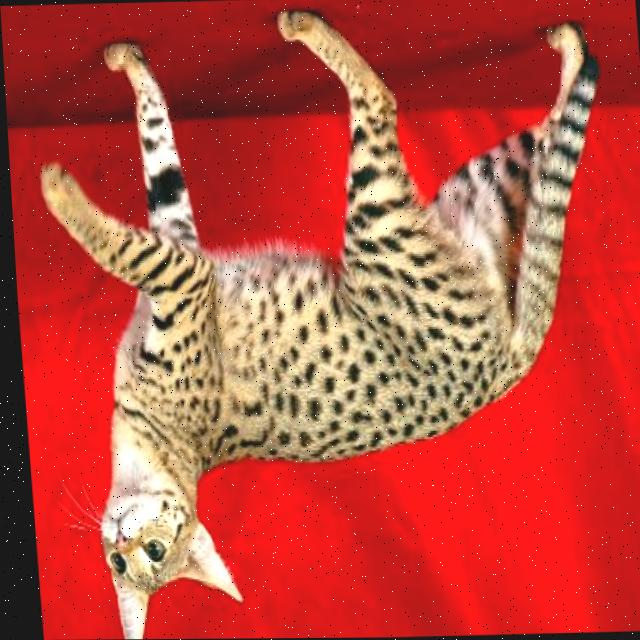Savannah: (21, 0, 637, 640)
